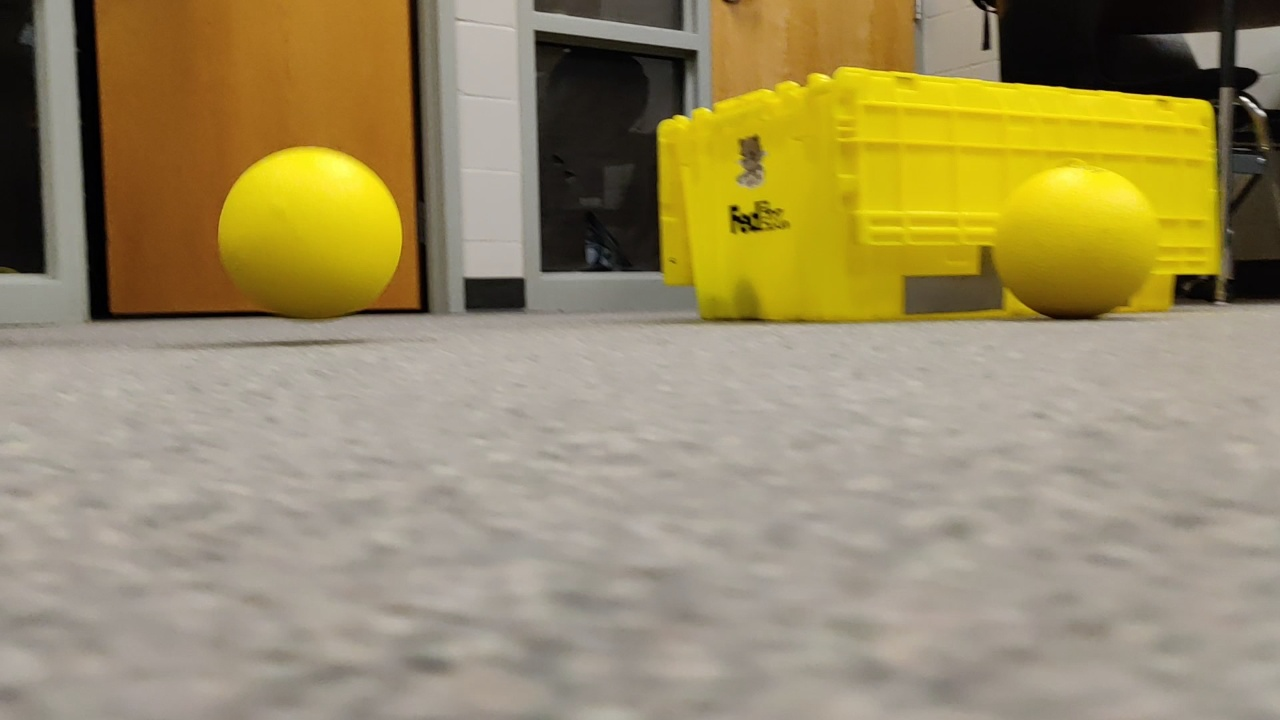Ball: (212, 142, 401, 329), (987, 159, 1158, 319)
